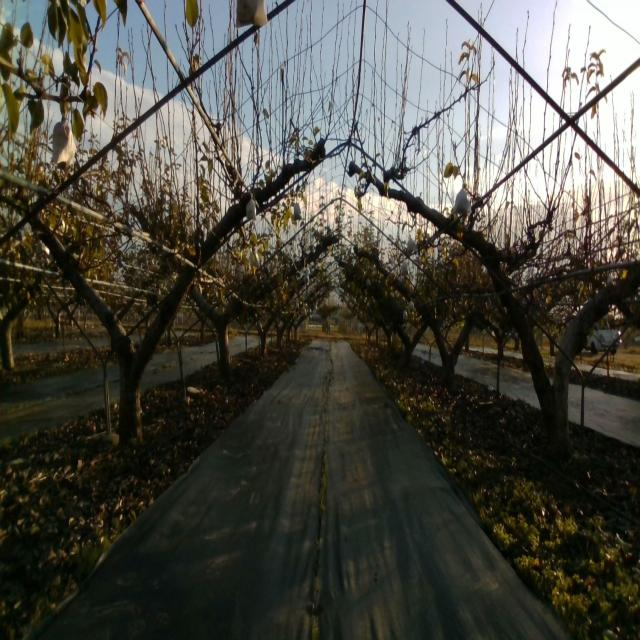pearbags: (52, 114, 76, 179), (451, 187, 473, 216), (245, 191, 258, 223), (293, 198, 304, 221)
